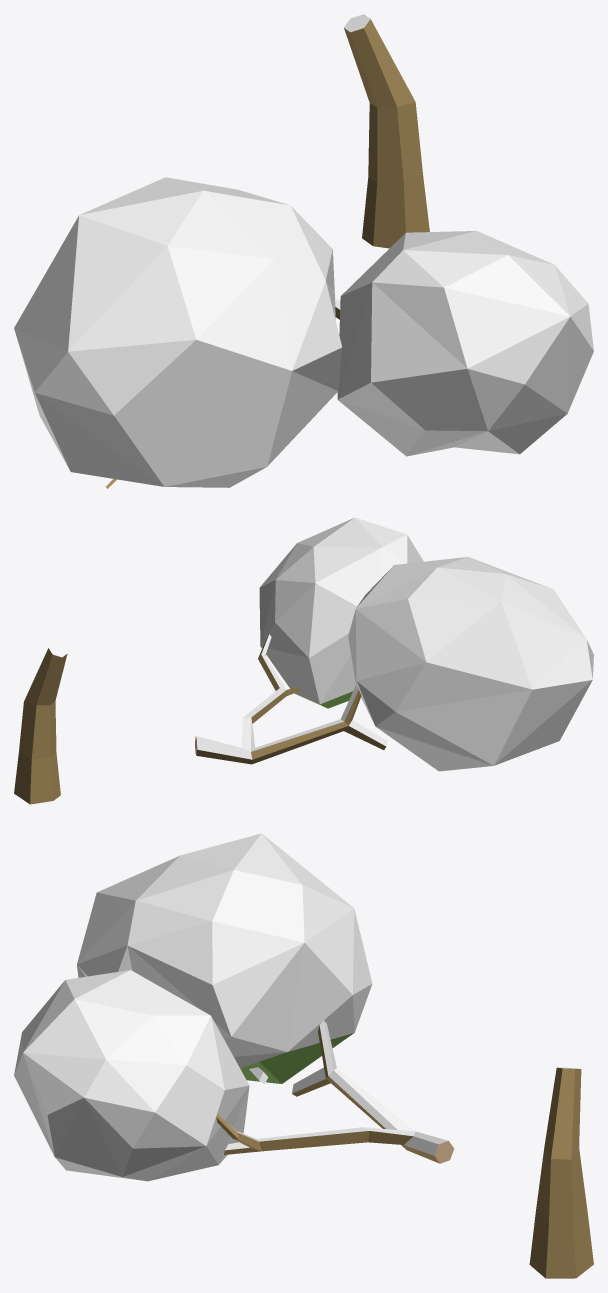
Rendered from Oak_Tree_crk_m_Snow_03_LOD.fbx.
The picture shows the model from 3 angles, top to bottom: view 1: azimuth 30°, elevation 25°; view 2: azimuth 150°, elevation 25°; view 3: azimuth 270°, elevation 25°; orthographic projection. The views are drawn at different scales.
Visible parts, largest first — view 1: Oak_Tree_crk_m_Snow_03_LOD0; view 2: Oak_Tree_crk_m_Snow_03_LOD0; view 3: Oak_Tree_crk_m_Snow_03_LOD0.
Boxes of the visible parts, <box> form: Oak_Tree_crk_m_Snow_03_LOD0: <box>14,14,593,488</box>; Oak_Tree_crk_m_Snow_03_LOD0: <box>14,517,593,804</box>; Oak_Tree_crk_m_Snow_03_LOD0: <box>14,833,593,1278</box>.
Size of what is drawn, in the model's own units: 712 by 313 by 691.
